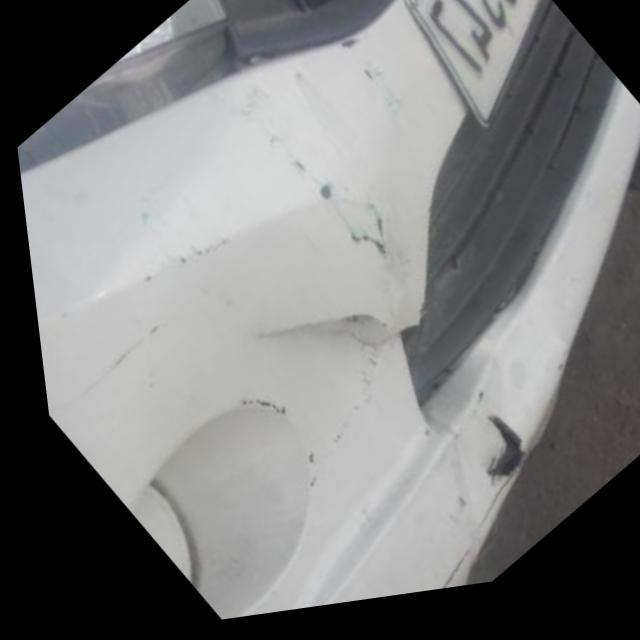crack: (294, 167, 394, 275), (324, 35, 412, 135), (440, 420, 531, 513)
